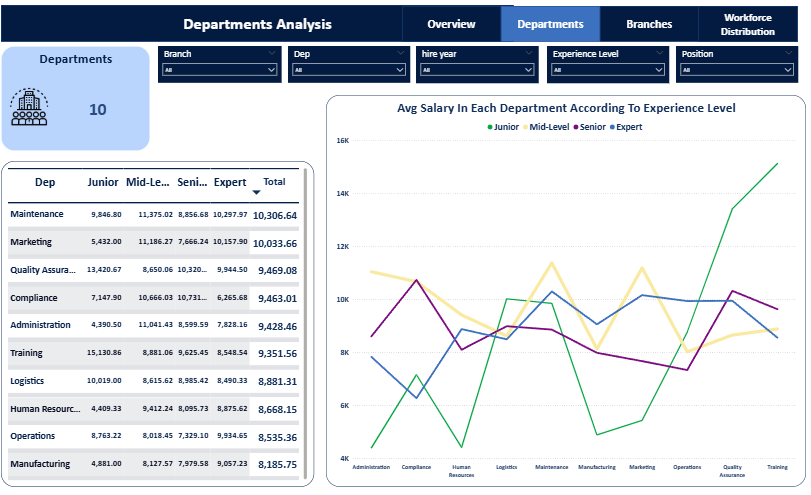

This screenshot's page, from the dashboard's own definition file:
{"tool":"powerbi","page":{"name":"departments Analysis","canvas":[1850,1100],"ordinal":2},"visuals":[{"type":"image","box":[255.1,14.2,127.6,72.3],"z":0},{"type":"shape","box":[11,15.4,1128.4,80.9],"z":0,"group":"g2"},{"type":"slicer","fields":{"Values":["Employee Database.Branch"]},"box":[356.4,105.6,272.3,81.3],"z":0,"group":"g1"},{"type":"slicer","fields":{"Values":["Employee Database.Position"]},"box":[1495.2,105.6,269.2,81.4],"z":0,"group":"g3"},{"type":"shape","box":[892.6,17.6,217.7,78.6],"z":1000,"group":"g2"},{"type":"shape","box":[1544.6,17.6,219.8,79.2],"z":1000,"group":"g4"},{"type":"group","id":"g1","title":"Group 2","box":[356.4,105.6,1125.3,81.4],"z":1000,"group":"g3"},{"type":"slicer","fields":{"Values":["Employee Database.Dep"]},"box":[642.5,105.6,269.2,81.3],"z":1000,"group":"g1"},{"type":"lineChart","title":"Avg Salary In Each Department According To Experience Level","fields":{"Y":["Employee Database.Average salary"],"Category":["Employee Database.Dep"],"Series":["Employee Database.ExperienceLevel_Clean"]},"box":[726,222.2,1104.4,853.6],"z":1000},{"type":"shape","box":[1110.3,17.6,217.6,78.6],"z":2000,"group":"g2"},{"type":"cardVisual","title":"Departments","fields":{"Data":["Employee Database.Departments"]},"box":[11,105.6,327.8,231],"z":2000},{"type":"slicer","fields":{"Values":["Employee Database.hire year"]},"box":[924,105.6,270,82.1],"z":2000,"group":"g1"},{"type":"group","id":"g2","title":"Group 1","box":[11,15.4,1533.6,81.4],"z":3000,"group":"g4"},{"type":"shape","box":[1327.9,17.6,217.6,78.6],"z":3000,"group":"g2"},{"type":"slicer","fields":{"Values":["Employee Database.Experience Level"]},"box":[1212.5,105.6,269.2,82.1],"z":3000,"group":"g1"},{"type":"pivotTable","title":"Salary Overview by Department","fields":{"Rows":["Employee Database.Dep"],"Values":["Employee Database.Average salary"],"Columns":["Employee Database.ExperienceLevel_Clean"]},"box":[11,358.6,688.6,717.2],"z":3000},{"type":"group","id":"g3","title":"Group 3","box":[356.4,105.6,1408,81.4],"z":4000},{"type":"group","id":"g4","title":"Group 4","box":[11,15.4,1753.4,81.4],"z":5000}]}

Visuals, with their boxes in screenshot pixels (x1, y1, x2, y2), scaled from the page's 1850x1100 canvas onto the 811x495 screenshot:
image: <region>112, 6, 168, 39</region>
shape: <region>5, 7, 499, 43</region>
slicer - Employee Database.Branch: <region>156, 48, 276, 84</region>
slicer - Employee Database.Position: <region>655, 48, 773, 84</region>
shape: <region>391, 8, 487, 43</region>
shape: <region>677, 8, 773, 44</region>
"Group 2" group: <region>156, 48, 650, 84</region>
slicer - Employee Database.Dep: <region>282, 48, 400, 84</region>
"Avg Salary In Each Department According To Experience Level" lineChart: <region>318, 100, 802, 484</region>
shape: <region>487, 8, 582, 43</region>
"Departments" cardVisual: <region>5, 48, 149, 151</region>
slicer - Employee Database.hire year: <region>405, 48, 523, 84</region>
"Group 1" group: <region>5, 7, 677, 44</region>
shape: <region>582, 8, 678, 43</region>
slicer - Employee Database.Experience Level: <region>532, 48, 650, 84</region>
"Salary Overview by Department" pivotTable: <region>5, 161, 307, 484</region>
"Group 3" group: <region>156, 48, 773, 84</region>
"Group 4" group: <region>5, 7, 773, 44</region>
